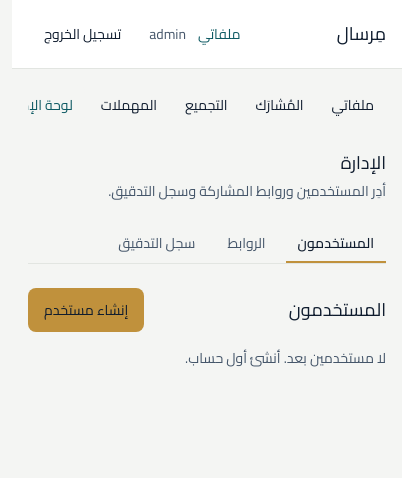
Admin — mobile card lists (§M3 two-layout pattern) › the shares mobile card list renders the same share alongside the desktop table
This screenshot has width=402, height=478.
Click the tab "الروابط". click: (246, 244)
box: x1=215 y1=225 x2=278 y2=263
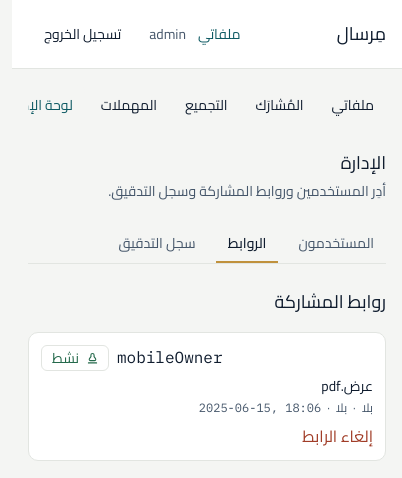
Result: the text "mobileOwner" is shown at x1=117 y1=347 x2=222 y2=367
